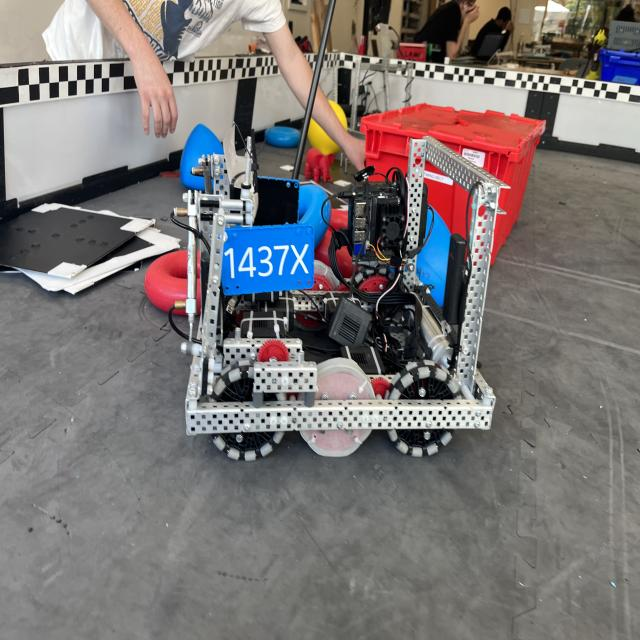Blue-Ring: (298, 183, 328, 248), (265, 127, 300, 148)
Red-Ring: (315, 209, 357, 280), (145, 250, 188, 312)
